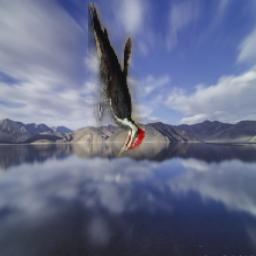Woodpecker: (89, 2, 146, 158)
